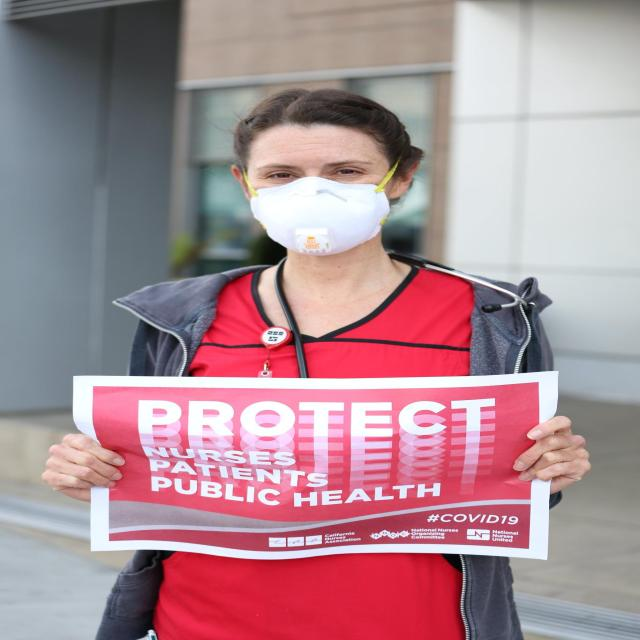Mask: (237, 174, 393, 260)
